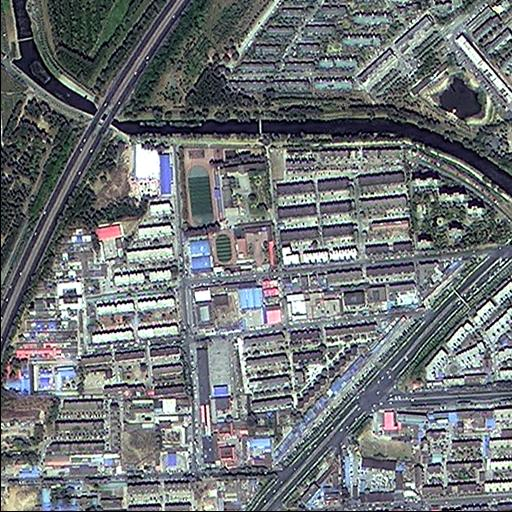school: (177, 144, 275, 229), (208, 219, 279, 268)
